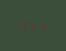five: (28, 19, 36, 31)
four: (37, 20, 45, 31)
three: (18, 19, 26, 30)
